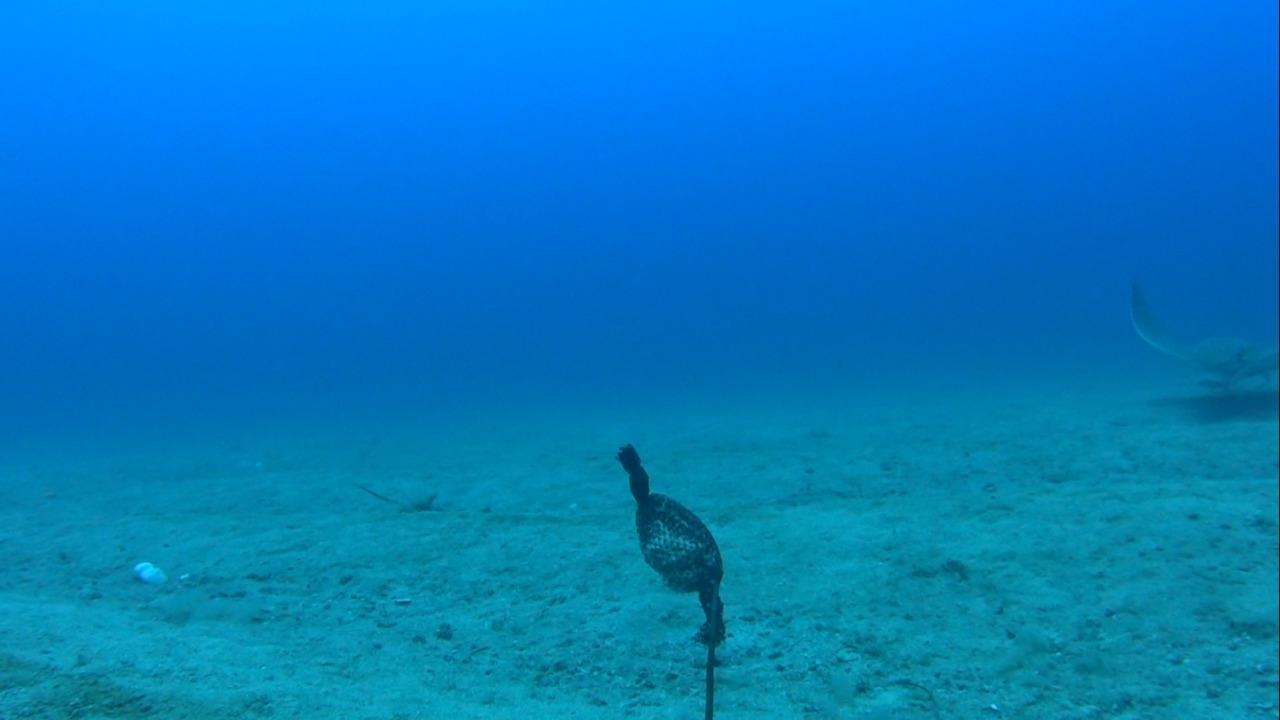myliobatis: (1108, 270, 1279, 397)
